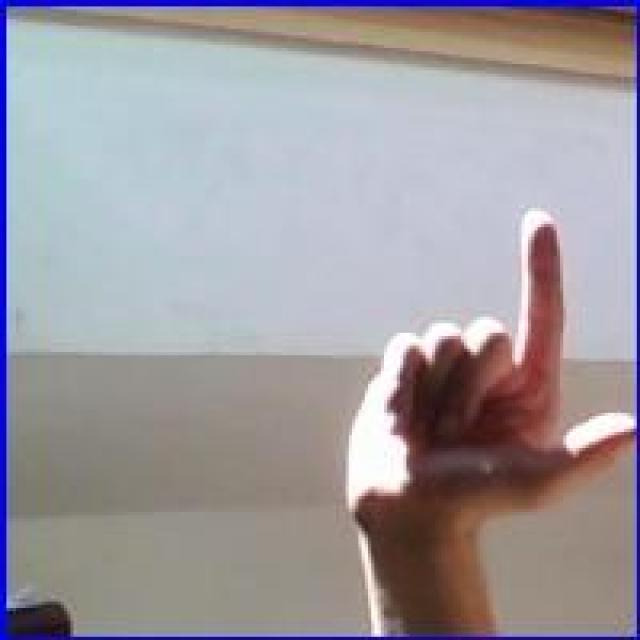L: (330, 205, 630, 579)
